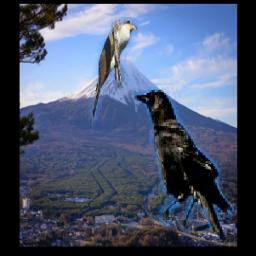Crow: (130, 86, 234, 243)
Cuckoo: (88, 18, 138, 137)
